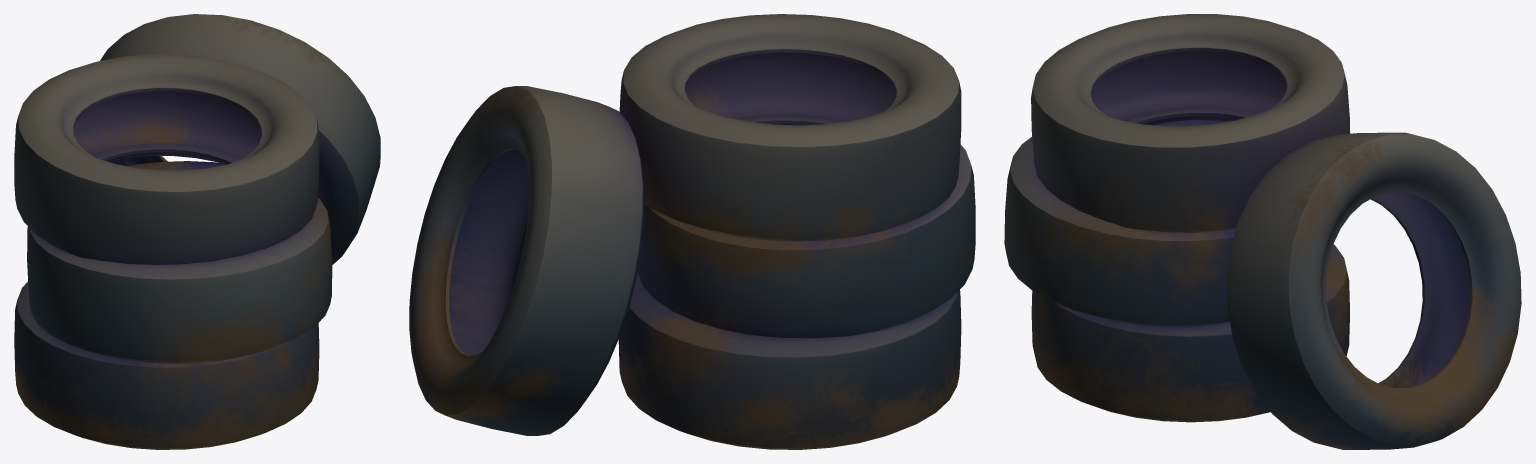
The model's file is Tires.glb.
3 renders of one model, left to right at view 1: azimuth 30°, elevation 25°; view 2: azimuth 150°, elevation 25°; view 3: azimuth 270°, elevation 25°, orthographic. The views are drawn at different scales.
Visible parts, largest first — view 1: Car_Tire_03, Car_Tire_02, Car_Tire_01, Car_Tire_04; view 2: Car_Tire_03, Car_Tire_04, Car_Tire_01, Car_Tire_02; view 3: Car_Tire_04, Car_Tire_03, Car_Tire_02, Car_Tire_01.
Part boxes in pixels (x1=…): Car_Tire_03: x1=14, y1=54, x2=319, y2=264; Car_Tire_02: x1=27, y1=161, x2=332, y2=363; Car_Tire_01: x1=14, y1=281, x2=319, y2=449; Car_Tire_04: x1=100, y1=14, x2=380, y2=264; Car_Tire_03: x1=619, y1=14, x2=961, y2=241; Car_Tire_04: x1=409, y1=86, x2=644, y2=435; Car_Tire_01: x1=618, y1=272, x2=961, y2=449; Car_Tire_02: x1=637, y1=144, x2=975, y2=338; Car_Tire_04: x1=1227, y1=132, x2=1521, y2=449; Car_Tire_03: x1=1031, y1=14, x2=1350, y2=232; Car_Tire_02: x1=1004, y1=120, x2=1236, y2=326; Car_Tire_01: x1=1031, y1=244, x2=1349, y2=422.
Bounding box in the file's own units: 1.04 × 0.7036 × 1.12.
1 material, 1 textured.
